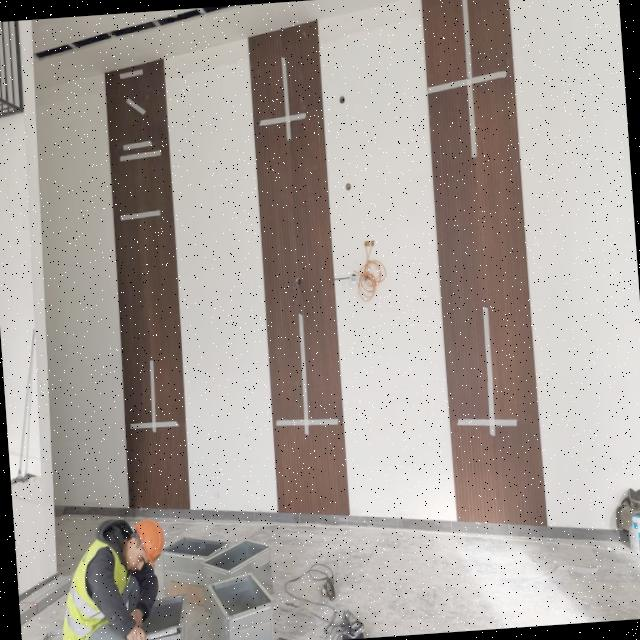Helmet: (132, 518, 166, 571)
Jacket: (59, 538, 137, 640)
